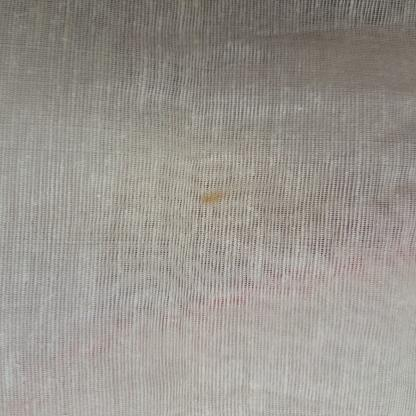spot: (197, 192, 228, 204)
